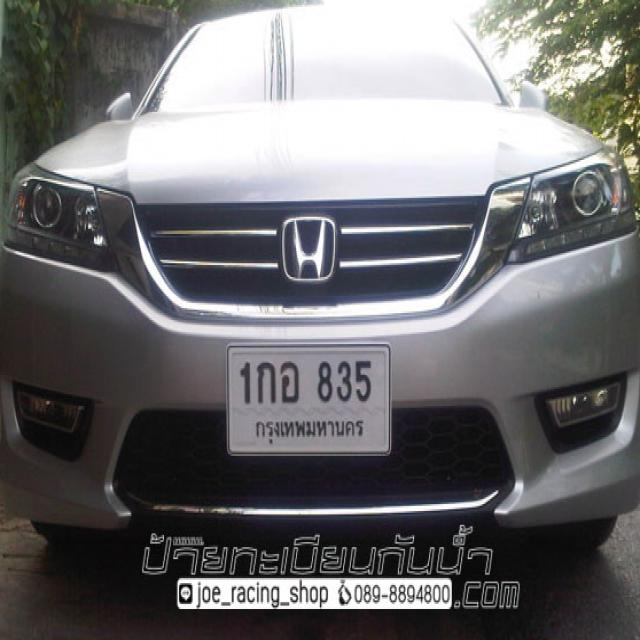license_plate: (222, 334, 398, 468)
